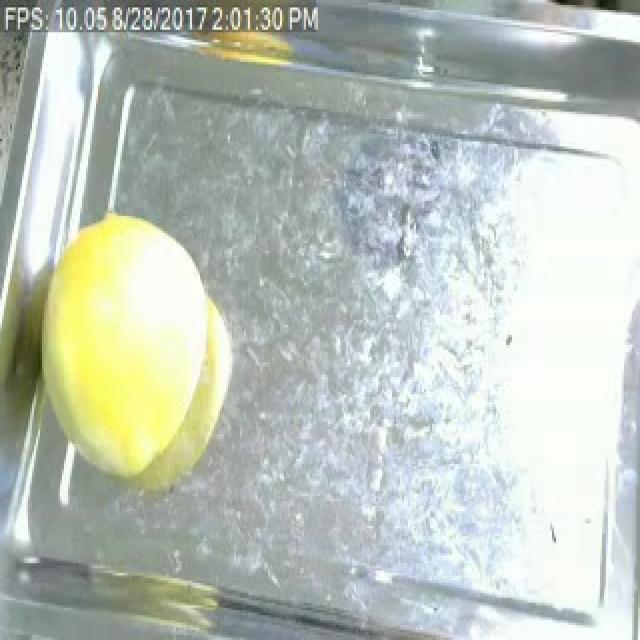fruit: (10, 196, 254, 506), (0, 543, 238, 640)
